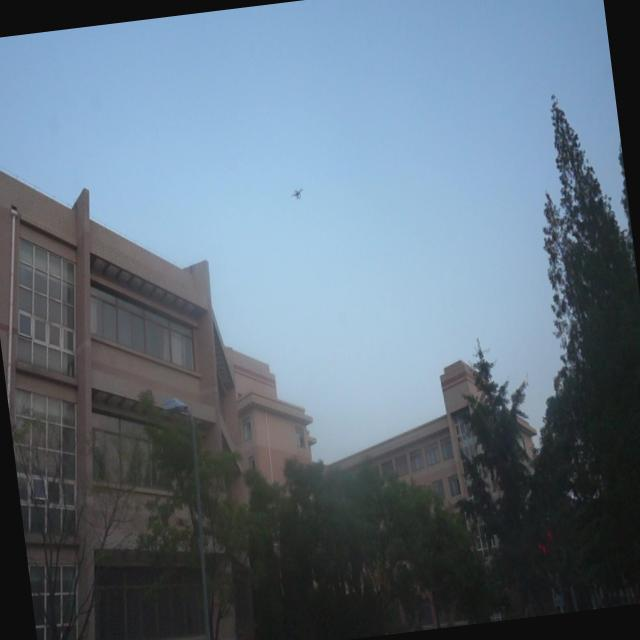drone: (287, 184, 307, 204)
